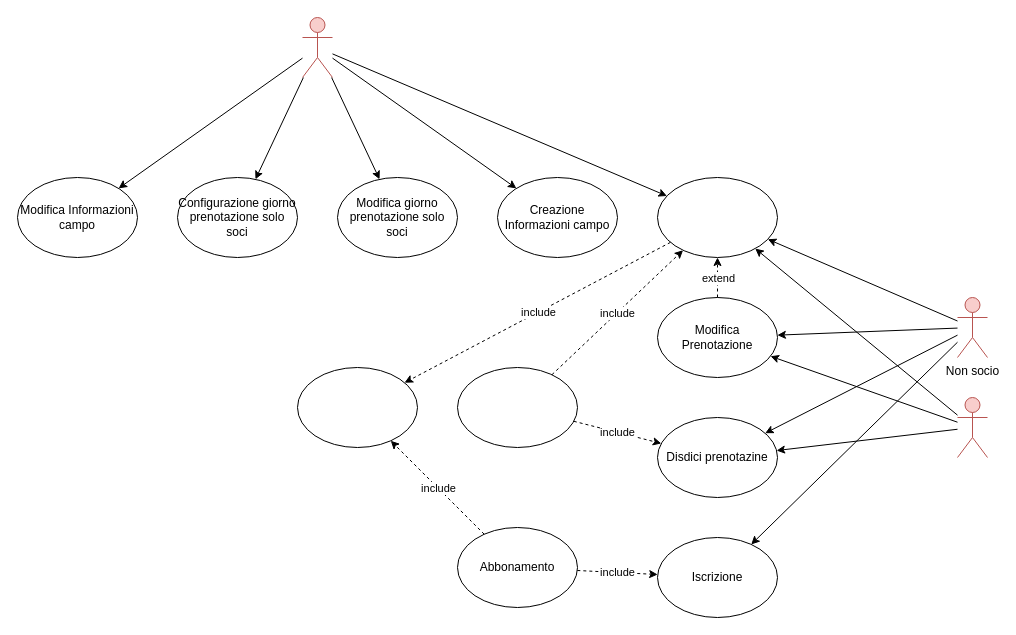
The diagram is 1016 pixels wide and 635 high, and some of its shapes have lost their labels. The shapes that lost their labels are listed below. From the top down, each one's centre as x and y in pixels, then its label:
At point (317, 47): "Amministratore".
At point (717, 217): "Creazione Prenotazione".
At point (357, 407): "Pagamento".
At point (517, 407): "Login".
At point (972, 427): "Socio".
